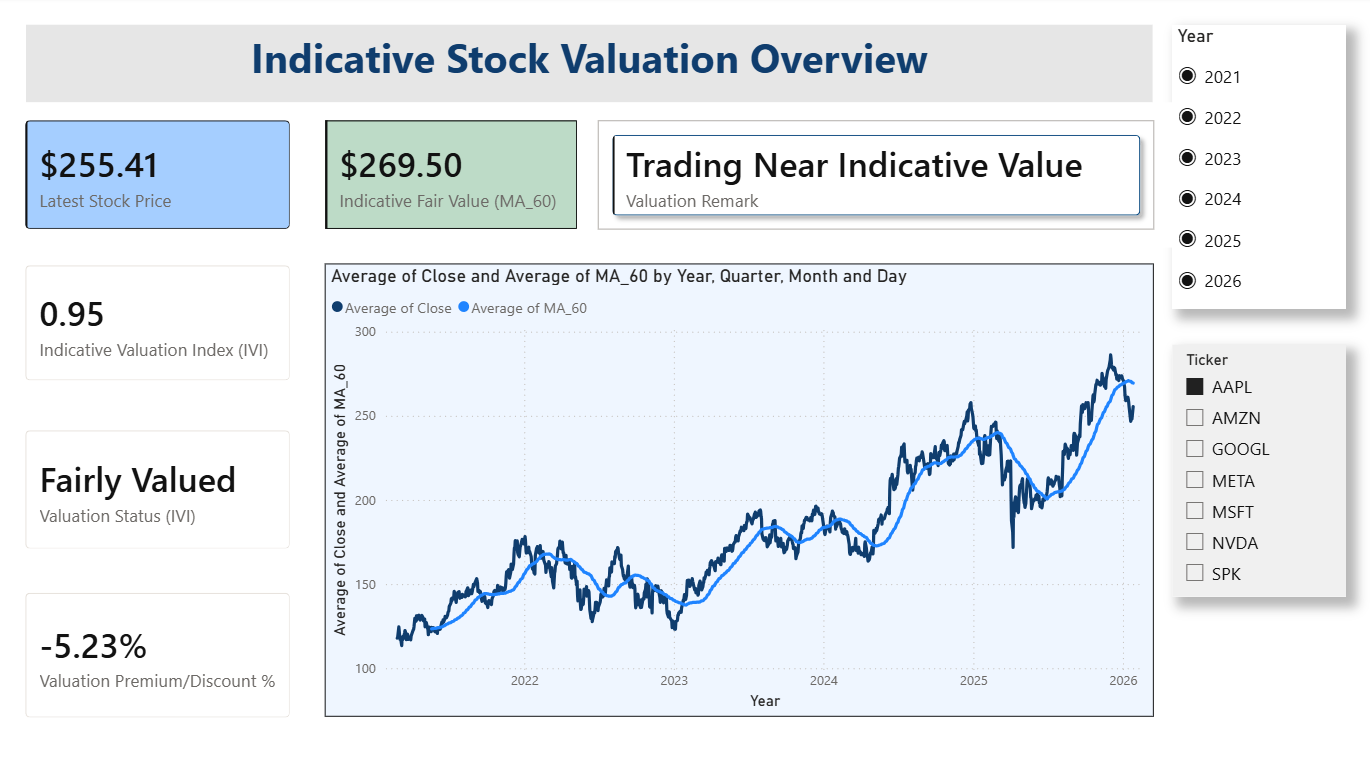

What the dashboard file says about the page in this screenshot:
{"tool":"powerbi","page":{"name":"Indicative Valuation","canvas":[1280,720],"ordinal":3},"visuals":[{"type":"cardVisual","fields":{"Data":["_Measures.Indicative Valuation Index (IVI)"]},"box":[10,234.3,280,141.4],"z":0},{"type":"cardVisual","fields":{"Data":["_Measures.Valuation Status (IVI)"]},"box":[10,387.1,280,144.3],"z":1000},{"type":"cardVisual","fields":{"Data":["_Measures.Valuation Premium/Discount %"]},"box":[10,538.3,280,150],"z":2000},{"type":"lineChart","fields":{"Y":["Avg(prices_with_rolling_averages.Close)","Avg(prices_with_rolling_averages.MA_60)"],"Category":["prices_with_rolling_averages.Date.Variation.Date Hierarchy.Year","prices_with_rolling_averages.Date.Variation.Date Hierarchy.Quarter","prices_with_rolling_averages.Date.Variation.Date Hierarchy.Month","prices_with_rolling_averages.Date.Variation.Date Hierarchy.Day"]},"box":[305.7,248.6,771.4,421.4],"z":3000},{"type":"listSlicer","fields":{"Values":["DateTable.Year"]},"box":[1094.3,27.1,161.4,264.3],"z":4000},{"type":"slicer","fields":{"Values":["fact_prices_features.Ticker"]},"box":[1094.3,324.3,161.4,234.3],"z":5000},{"type":"cardVisual","fields":{"Data":["_Measures.Latest Stock Price"]},"box":[10,98.3,280,135],"z":6000},{"type":"cardVisual","fields":{"Data":["_Measures.Indicative Fair Value (MA_60)"]},"box":[290,98.3,268.3,135],"z":7000},{"type":"cardVisual","fields":{"Data":["_Measures.Valuation Remark"]},"box":[543.3,98.3,551.7,135],"z":8000},{"type":"textbox","box":[28.3,26.7,1048.3,71.7],"z":9000}]}

Visuals, with their boxes in screenshot pixels (x1, y1, x2, y2), scaled from the page's 1280x720 canvas onto the 1370x766 screenshot:
cardVisual - _Measures.Indicative Valuation Index (IVI): bbox=[11, 249, 310, 400]
cardVisual - _Measures.Valuation Status (IVI): bbox=[11, 412, 310, 565]
cardVisual - _Measures.Valuation Premium/Discount %: bbox=[11, 573, 310, 732]
lineChart - Avg(prices_with_rolling_averages.Close) x Avg(prices_with_rolling_averages.MA_60): bbox=[327, 264, 1153, 713]
listSlicer - DateTable.Year: bbox=[1171, 29, 1344, 310]
slicer - fact_prices_features.Ticker: bbox=[1171, 345, 1344, 594]
cardVisual - _Measures.Latest Stock Price: bbox=[11, 105, 310, 248]
cardVisual - _Measures.Indicative Fair Value (MA_60): bbox=[310, 105, 598, 248]
cardVisual - _Measures.Valuation Remark: bbox=[582, 105, 1172, 248]
textbox: bbox=[30, 28, 1152, 105]
